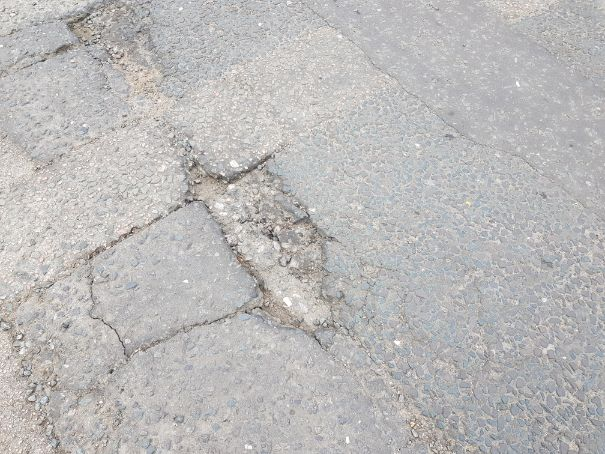pothole: (177, 150, 349, 350), (55, 3, 173, 99)
